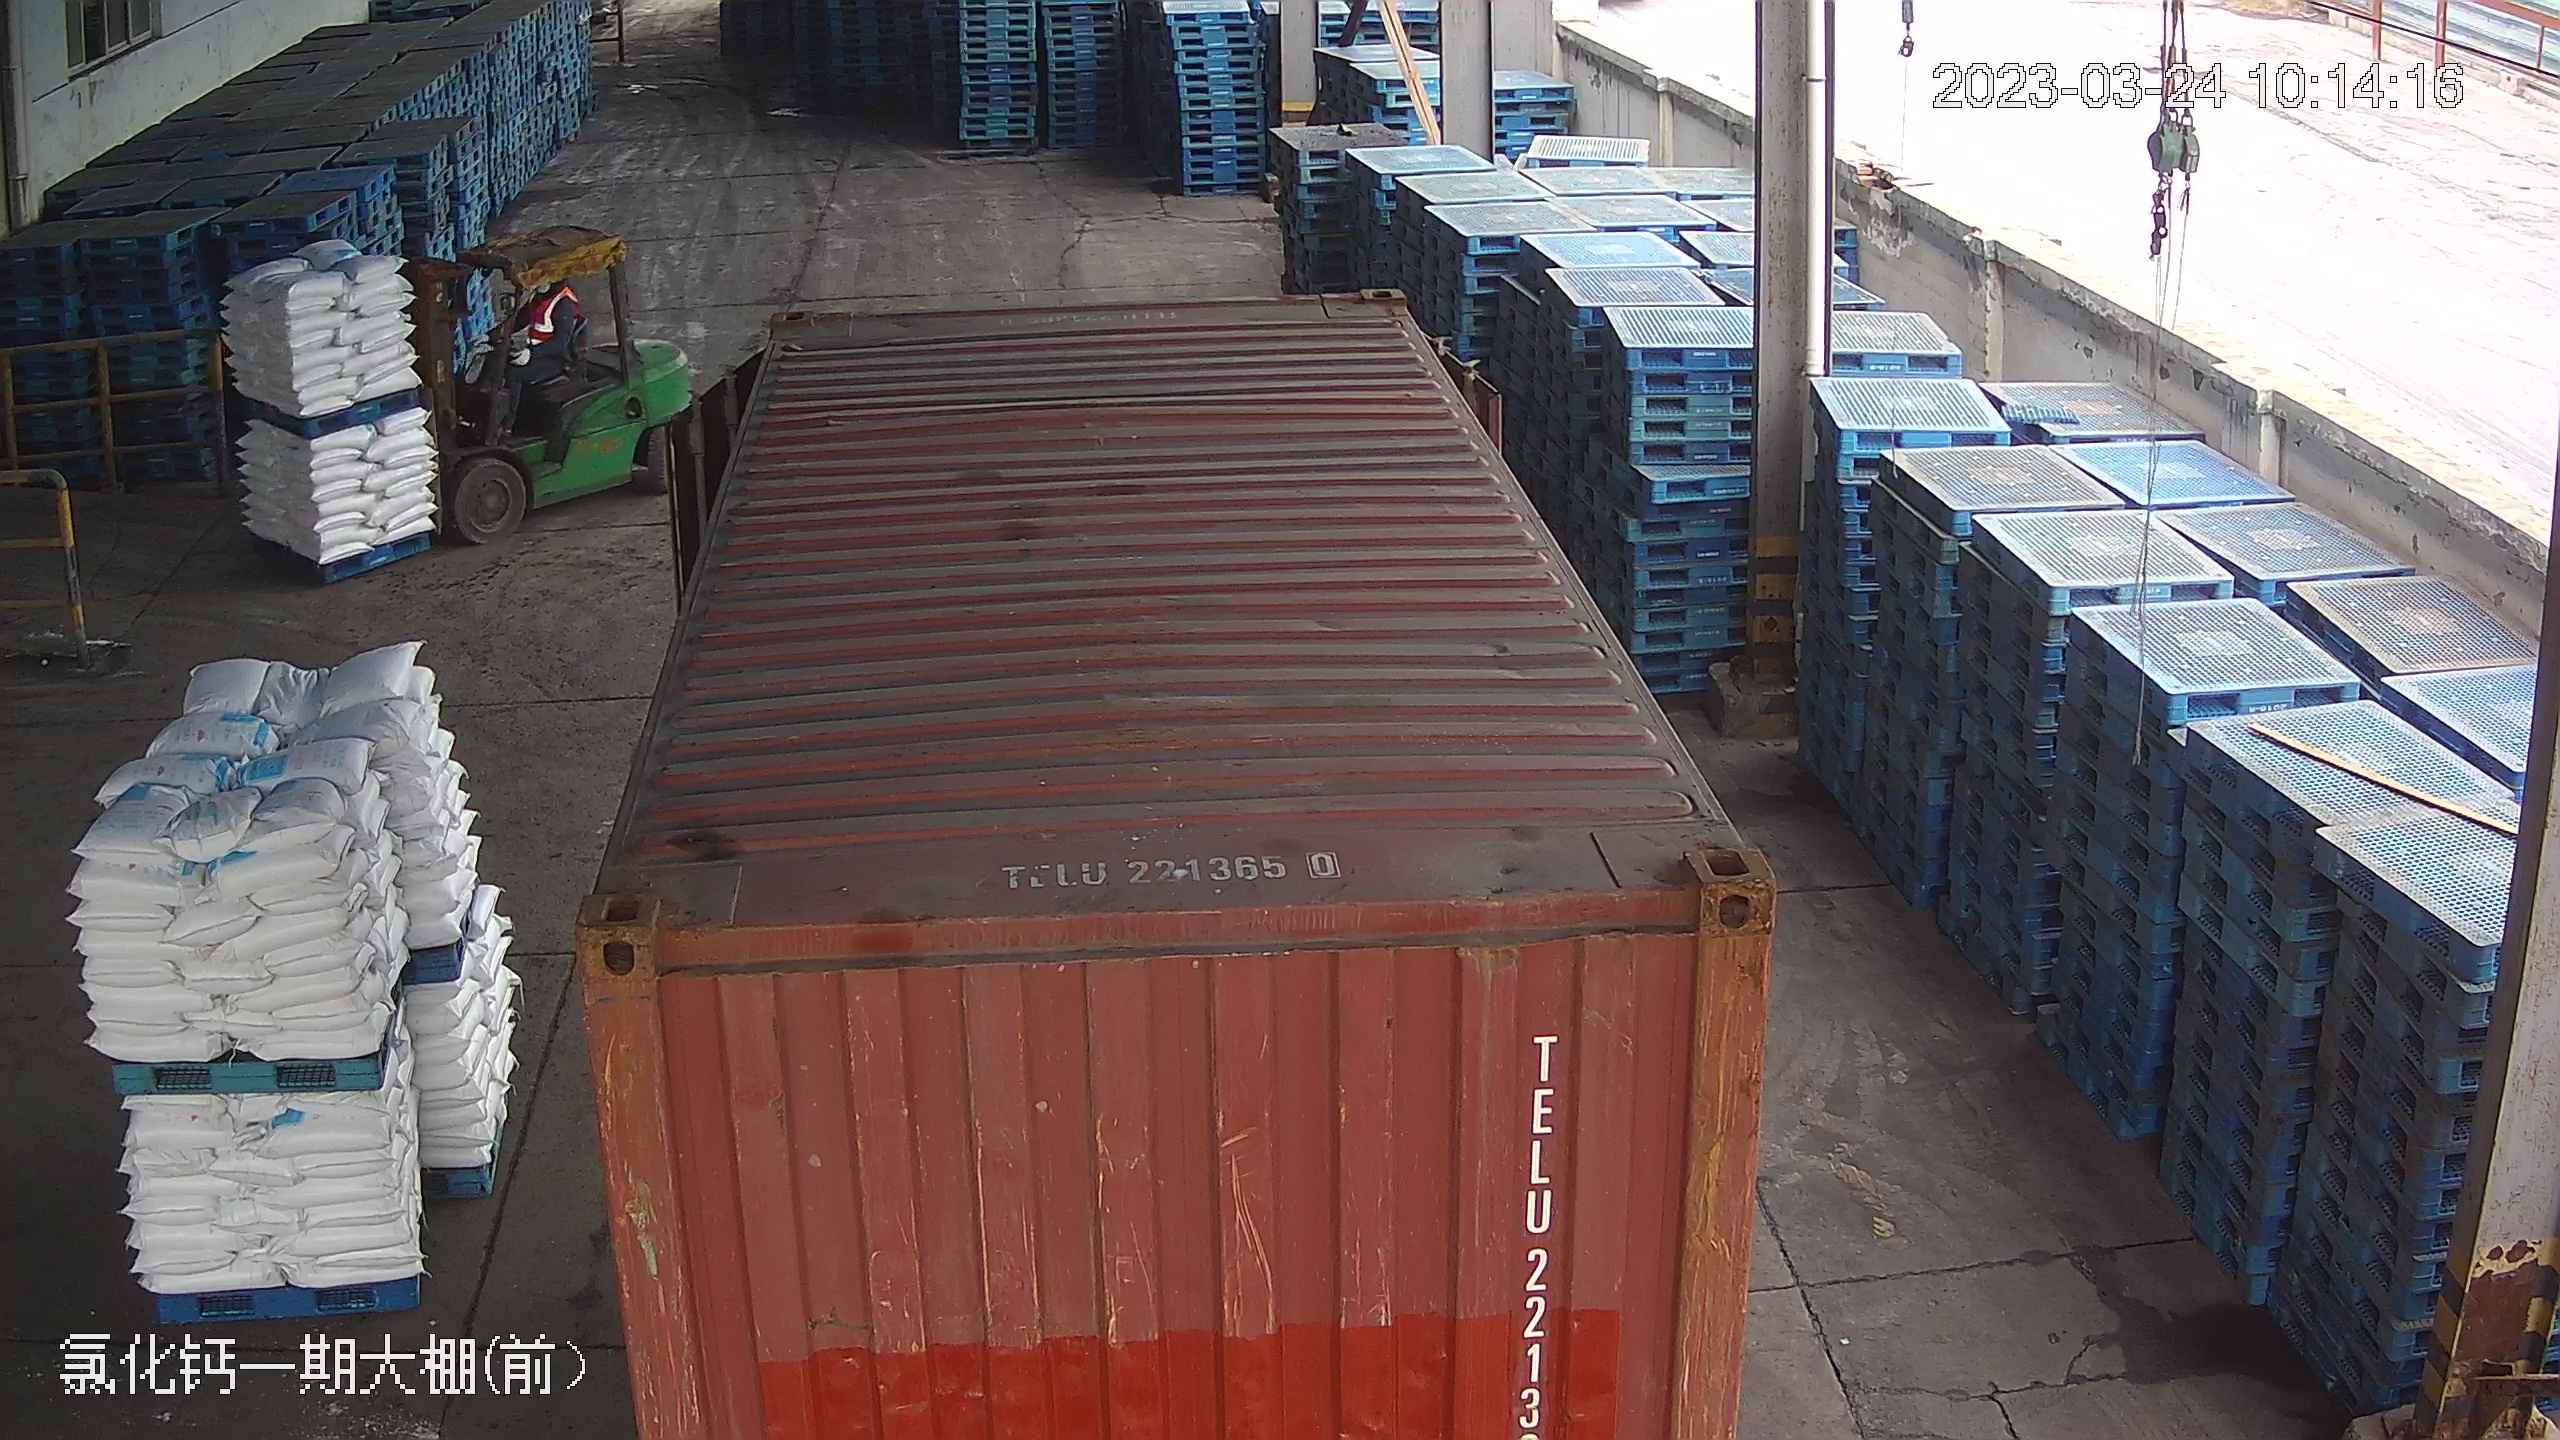people: (494, 268, 582, 414)
truck: (550, 226, 1808, 1440)
